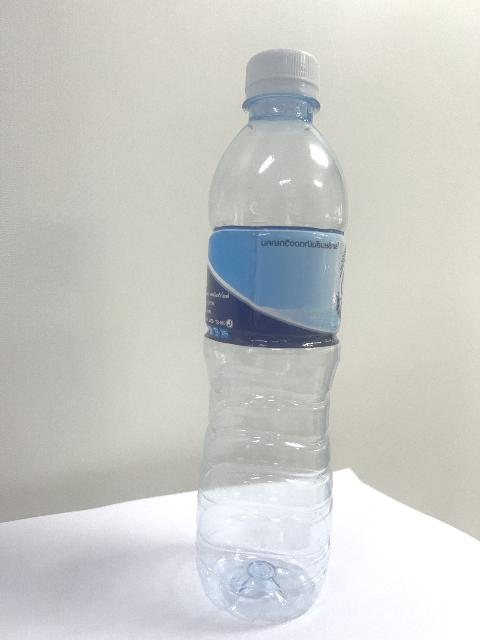bottle: (196, 50, 346, 623)
